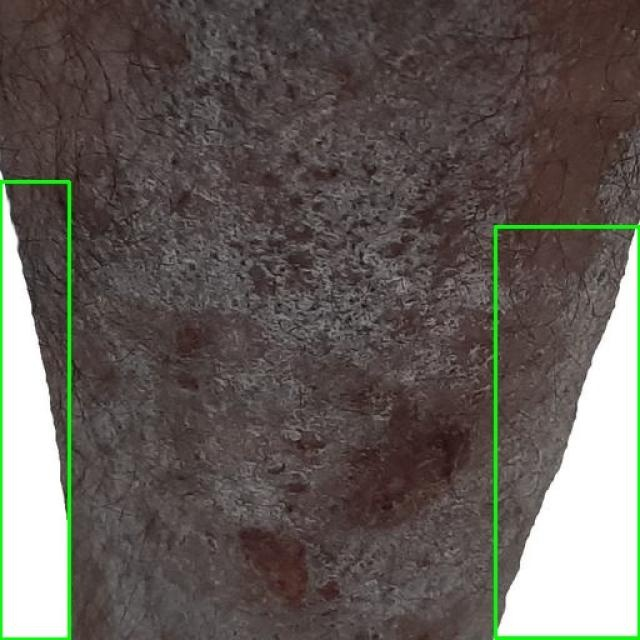Contact Dermatitis: (495, 228, 639, 639), (0, 181, 69, 639)
